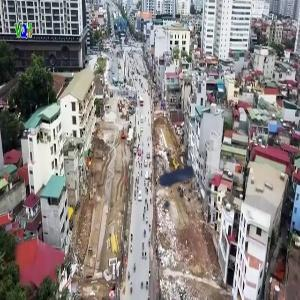drone: (127, 136, 230, 239)
